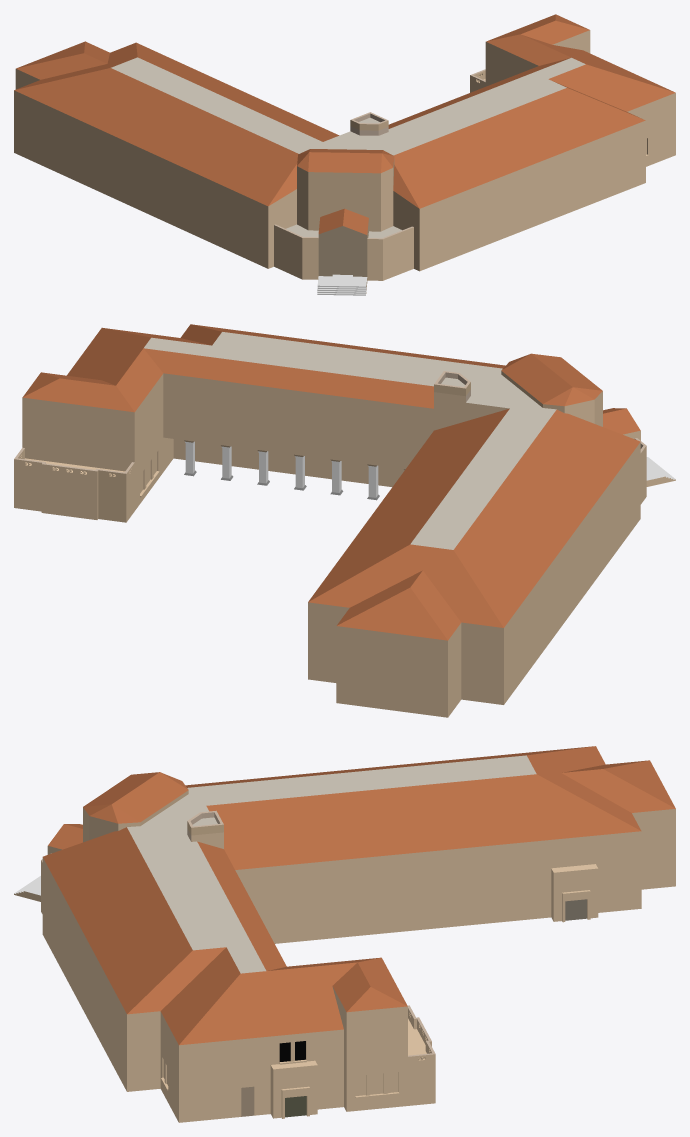
The model's file is test5_centered_exploded.dae.
3 renders of one model, top to bottom at view 1: azimuth 30°, elevation 25°; view 2: azimuth 150°, elevation 25°; view 3: azimuth 270°, elevation 25°, orthographic. The views are drawn at different scales.
Parts seen in each view (by area): view 1: SketchUp (×10); view 2: SketchUp (×8); view 3: SketchUp (×8).
Boxes of the visible parts, <box> form: SketchUp (×10): <box>14,14,675,295</box>; SketchUp (×8): <box>14,324,675,717</box>; SketchUp (×8): <box>14,746,675,1122</box>.
Bounding box in the file's own units: 2977 × 2784 × 576.
